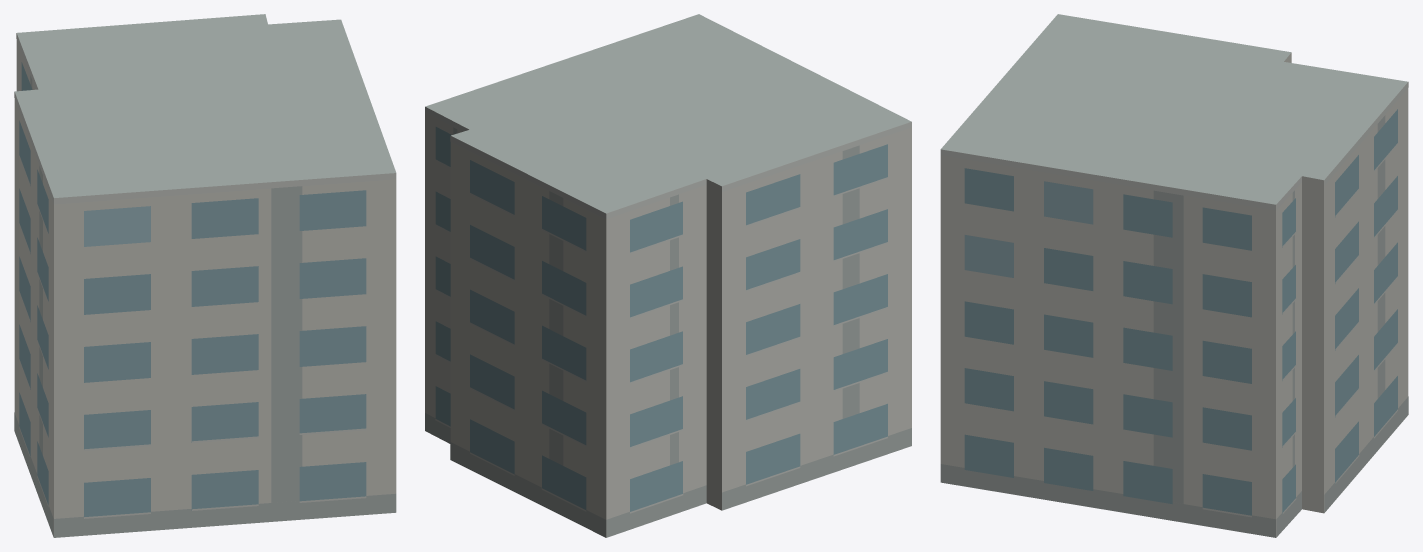
Rendered from survey-upis-32891717.glb.
The picture shows the model from 3 angles, left to right: view 1: azimuth 30°, elevation 25°; view 2: azimuth 150°, elevation 25°; view 3: azimuth 270°, elevation 25°; orthographic projection. The views are drawn at different scales.
Visible parts, largest first — view 1: survey-upis-32891717.tmp; view 2: survey-upis-32891717.tmp; view 3: survey-upis-32891717.tmp.
Part boxes in pixels (x1=…): survey-upis-32891717.tmp: x1=14, y1=14, x2=396, y2=537; survey-upis-32891717.tmp: x1=425, y1=14, x2=911, y2=537; survey-upis-32891717.tmp: x1=940, y1=14, x2=1408, y2=537.
Bounding box in the file's own units: 16.34 × 13.3 × 16.93.
